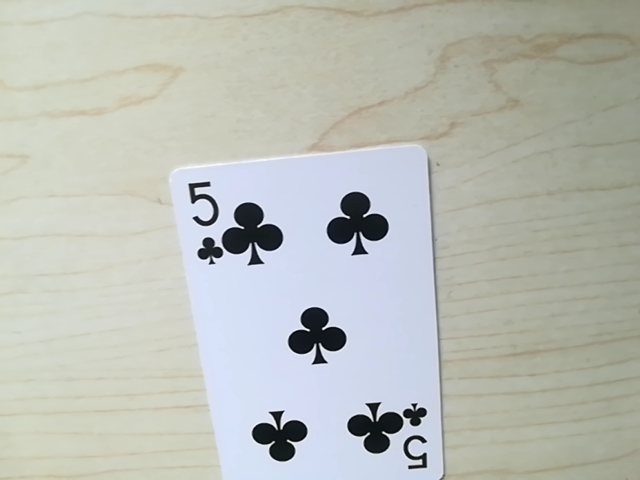mh 5: (180, 172, 225, 268), (402, 404, 434, 478)
